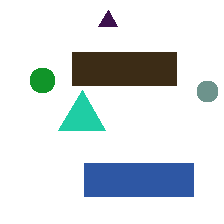circle: (30, 68, 54, 92), (197, 81, 217, 101)
rectangle: (84, 163, 193, 196), (72, 52, 176, 85)
triangle: (58, 90, 105, 130), (98, 10, 117, 26)
